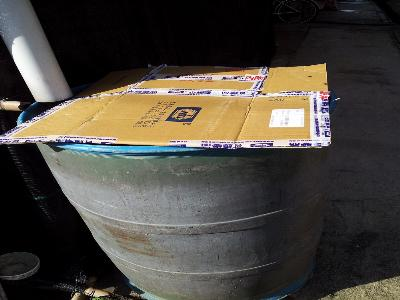bucket: (14, 91, 338, 299)
